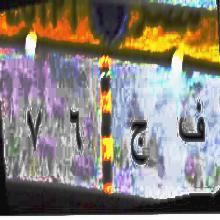6: (65, 99, 87, 158)
7: (23, 104, 47, 154)
faa: (174, 92, 210, 151)
jeem: (127, 112, 152, 170)
